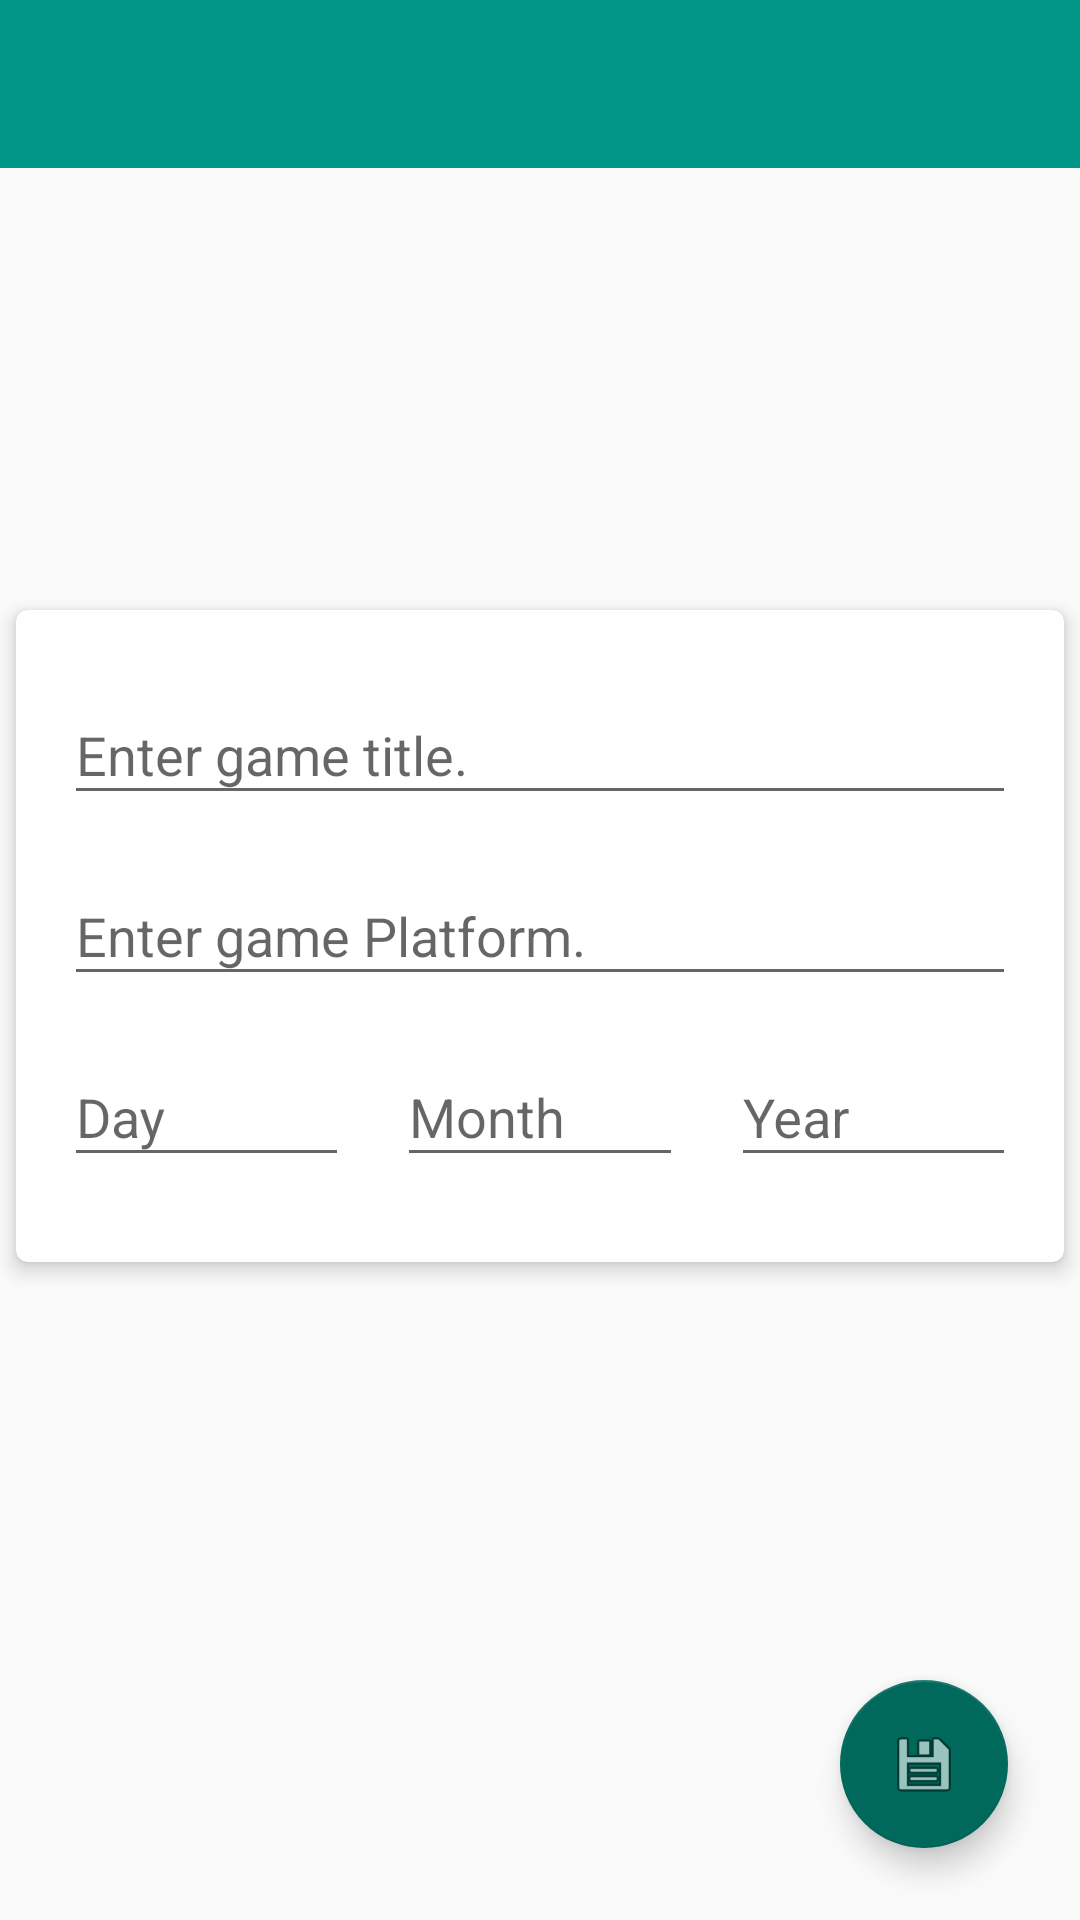

Icon click points for this 1080px×1920px phone screenshot, format [x,y]:
save: [924,1764]
